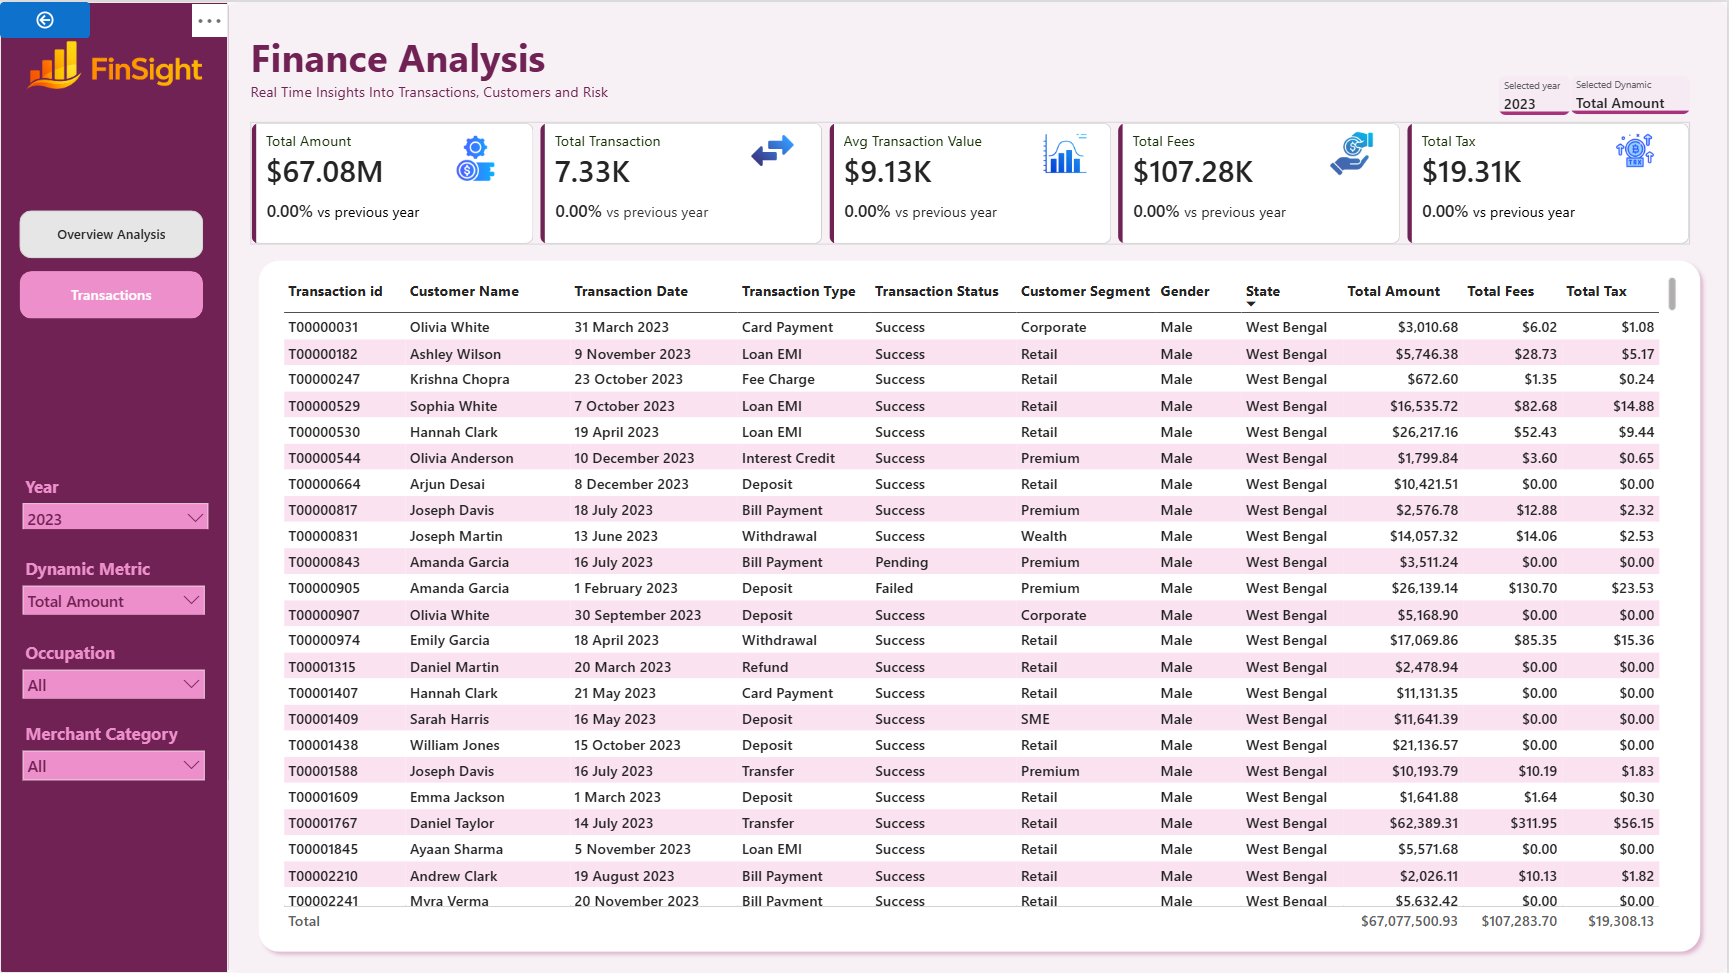

Layout of this report page (visuals, bound fields, positions):
{"tool":"powerbi","page":{"name":"Transactions","canvas":[1920,1080],"ordinal":1},"visuals":[{"type":"shape","box":[0,0,254,1080],"z":0},{"type":"shape","title":"Transaction Type Analysis","box":[253.3,0,1666.7,1080],"z":1000},{"type":"image","box":[22,26,216,88],"z":2000},{"type":"cardVisual","fields":{"Data":["finance_transactions.Total Amount","finance_transactions.Total Transaction","finance_transactions.Avg Transaction Value","finance_transactions.Total Fees","finance_transactions.Total Tax"]},"box":[278,134,1600,136],"z":3000},{"type":"textbox","box":[278,32,450,82],"z":5000},{"type":"image","box":[503.3,142.8,50,60],"z":6000},{"type":"image","box":[1158.3,142.8,50,50],"z":8000},{"type":"image","box":[1791.7,139.4,50,50],"z":10000},{"type":"image","box":[833.3,139.4,50,50],"z":11000},{"type":"image","box":[1476.7,142.8,50,50],"z":12000},{"type":"shape","box":[278,278,1620,786],"z":14000},{"type":"cardVisual","fields":{"Data":["finance_transactions.Selected year"]},"box":[1664.3,81.4,80,44.3],"z":15000},{"type":"cardVisual","fields":{"Data":["finance_transactions.Selected Dynamic measure"]},"box":[1745,81.7,133.3,43.3],"z":16000},{"type":"tableEx","fields":{"Values":["finance_transactions.transaction_id","customers.Full_name","finance_transactions.transaction_date","finance_transactions.transaction_type","finance_transactions.transaction_status","customers.customer_segment","customers.gender","customers.state","finance_transactions.Total Amount","finance_transactions.Total Fees","finance_transactions.Total Tax"]},"box":[298,292,1580,758],"z":17000},{"type":"actionButton","box":[0,0,100,40],"z":18000},{"type":"pageNavigator","box":[22,232,204,120],"z":18005},{"type":"slicer","fields":{"Values":["Calendar Table.Year"]},"box":[19.8,524.8,216.4,60.8],"z":18006},{"type":"slicer","fields":{"Values":["Dynamic Metric.Dynamic Metric"]},"box":[20,617.3,212,64],"z":18007},{"type":"slicer","fields":{"Values":["customers.occupation"]},"box":[20,709.3,212,64],"z":18008},{"type":"slicer","fields":{"Values":["finance_transactions.merchant_category"]},"box":[20.7,800.7,212,66],"z":18009}]}

Visuals, with their boxes on the page's 1920x1080 design canvas (x1, y1, x2, y2). These are canvas units, not pixel positions in the 1729x973 screenshot, which may show the page scaled, cropped or inside an application window:
shape: 0:0:254:1080
"Transaction Type Analysis" shape: 253:0:1920:1080
image: 22:26:238:114
cardVisual - finance_transactions.Total Amount x finance_transactions.Total Transaction: 278:134:1878:270
textbox: 278:32:728:114
image: 503:143:553:203
image: 1158:143:1208:193
image: 1792:139:1842:189
image: 833:139:883:189
image: 1477:143:1527:193
shape: 278:278:1898:1064
cardVisual - finance_transactions.Selected year: 1664:81:1744:126
cardVisual - finance_transactions.Selected Dynamic measure: 1745:82:1878:125
tableEx - finance_transactions.transaction_id x customers.Full_name: 298:292:1878:1050
actionButton: 0:0:100:40
pageNavigator: 22:232:226:352
slicer - Calendar Table.Year: 20:525:236:586
slicer - Dynamic Metric.Dynamic Metric: 20:617:232:681
slicer - customers.occupation: 20:709:232:773
slicer - finance_transactions.merchant_category: 21:801:233:867
